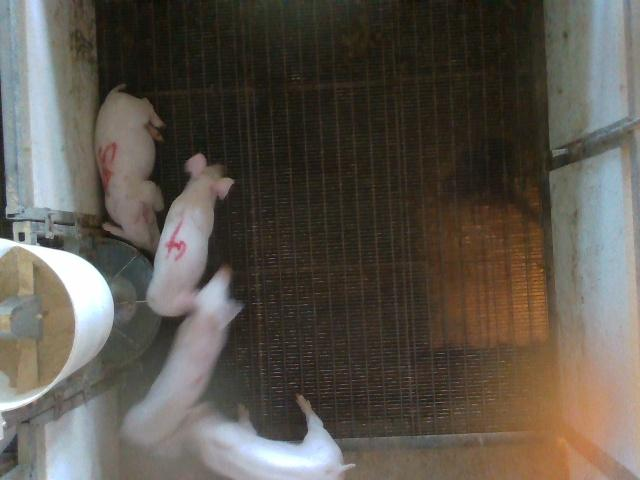pig-2: (122, 266, 241, 446)
pig-4: (146, 154, 234, 316)
pig-5: (95, 85, 165, 253)
